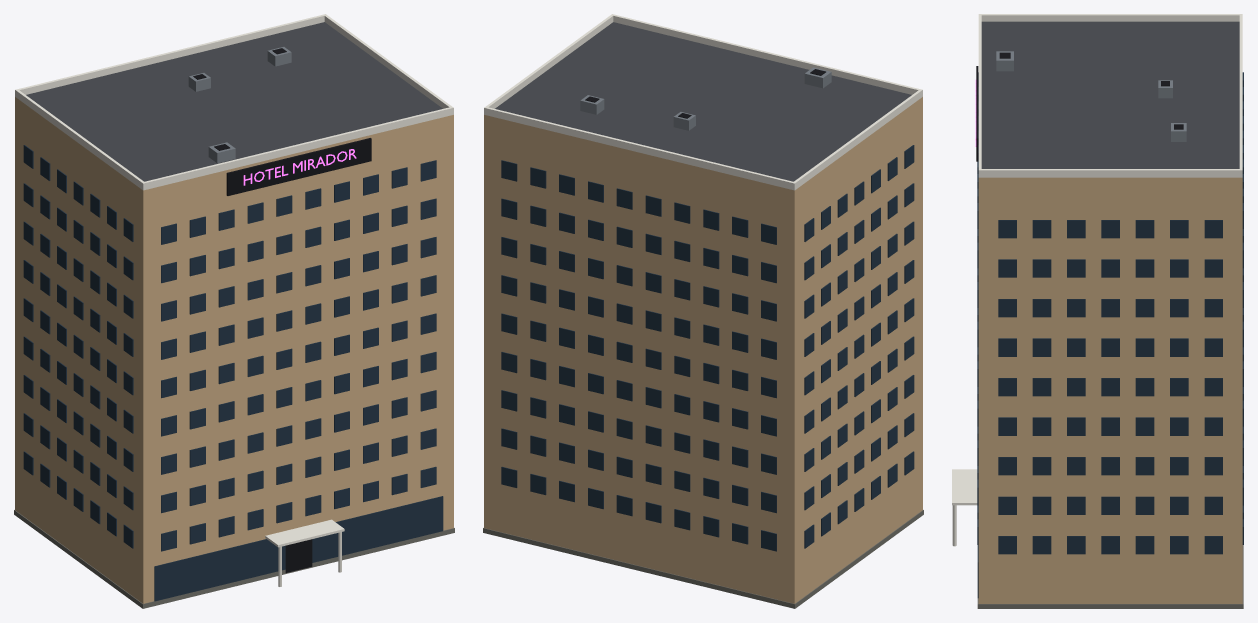
The model's file is hotel.glb.
The picture shows the model from 3 angles, left to right: view 1: azimuth 30°, elevation 25°; view 2: azimuth 150°, elevation 25°; view 3: azimuth 270°, elevation 25°; orthographic projection. The views are drawn at different scales.
Parts seen in each view (by area): view 1: hotel_Body, hotel_SignBoard, hotel_Sign; view 2: hotel_Body; view 3: hotel_Body.
Boxes of the visible parts, x1=… form: hotel_Body: x1=14, y1=14, x2=454, y2=608; hotel_SignBoard: x1=226, y1=138, x2=371, y2=195; hotel_Sign: x1=243, y1=149, x2=356, y2=185; hotel_Body: x1=483, y1=14, x2=923, y2=608; hotel_Body: x1=952, y1=14, x2=1243, y2=608.
Size of the model in its own units: 28.16 by 37 by 22.08.
